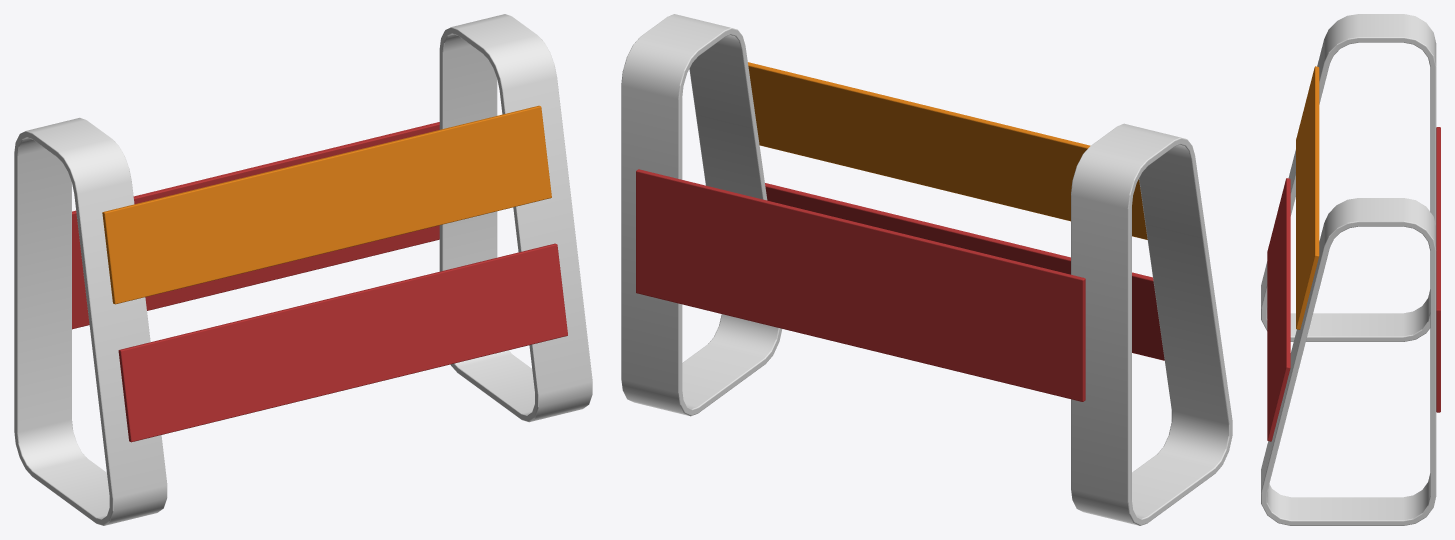
Rendered from Barrier_01.glb.
3 renders of one model, left to right at view 1: azimuth 30°, elevation 25°; view 2: azimuth 150°, elevation 25°; view 3: azimuth 270°, elevation 25°, orthographic. The views are drawn at different scales.
Visible parts, largest first — view 1: SM_Barrier_01; view 2: SM_Barrier_01; view 3: SM_Barrier_01.
Part boxes in pixels (x1,y1,x2,y2): SM_Barrier_01: [14, 14, 592, 525]; SM_Barrier_01: [621, 14, 1232, 525]; SM_Barrier_01: [1261, 14, 1440, 525].
Size of the model in its own units: 1.23 by 0.8384 by 0.4484.
